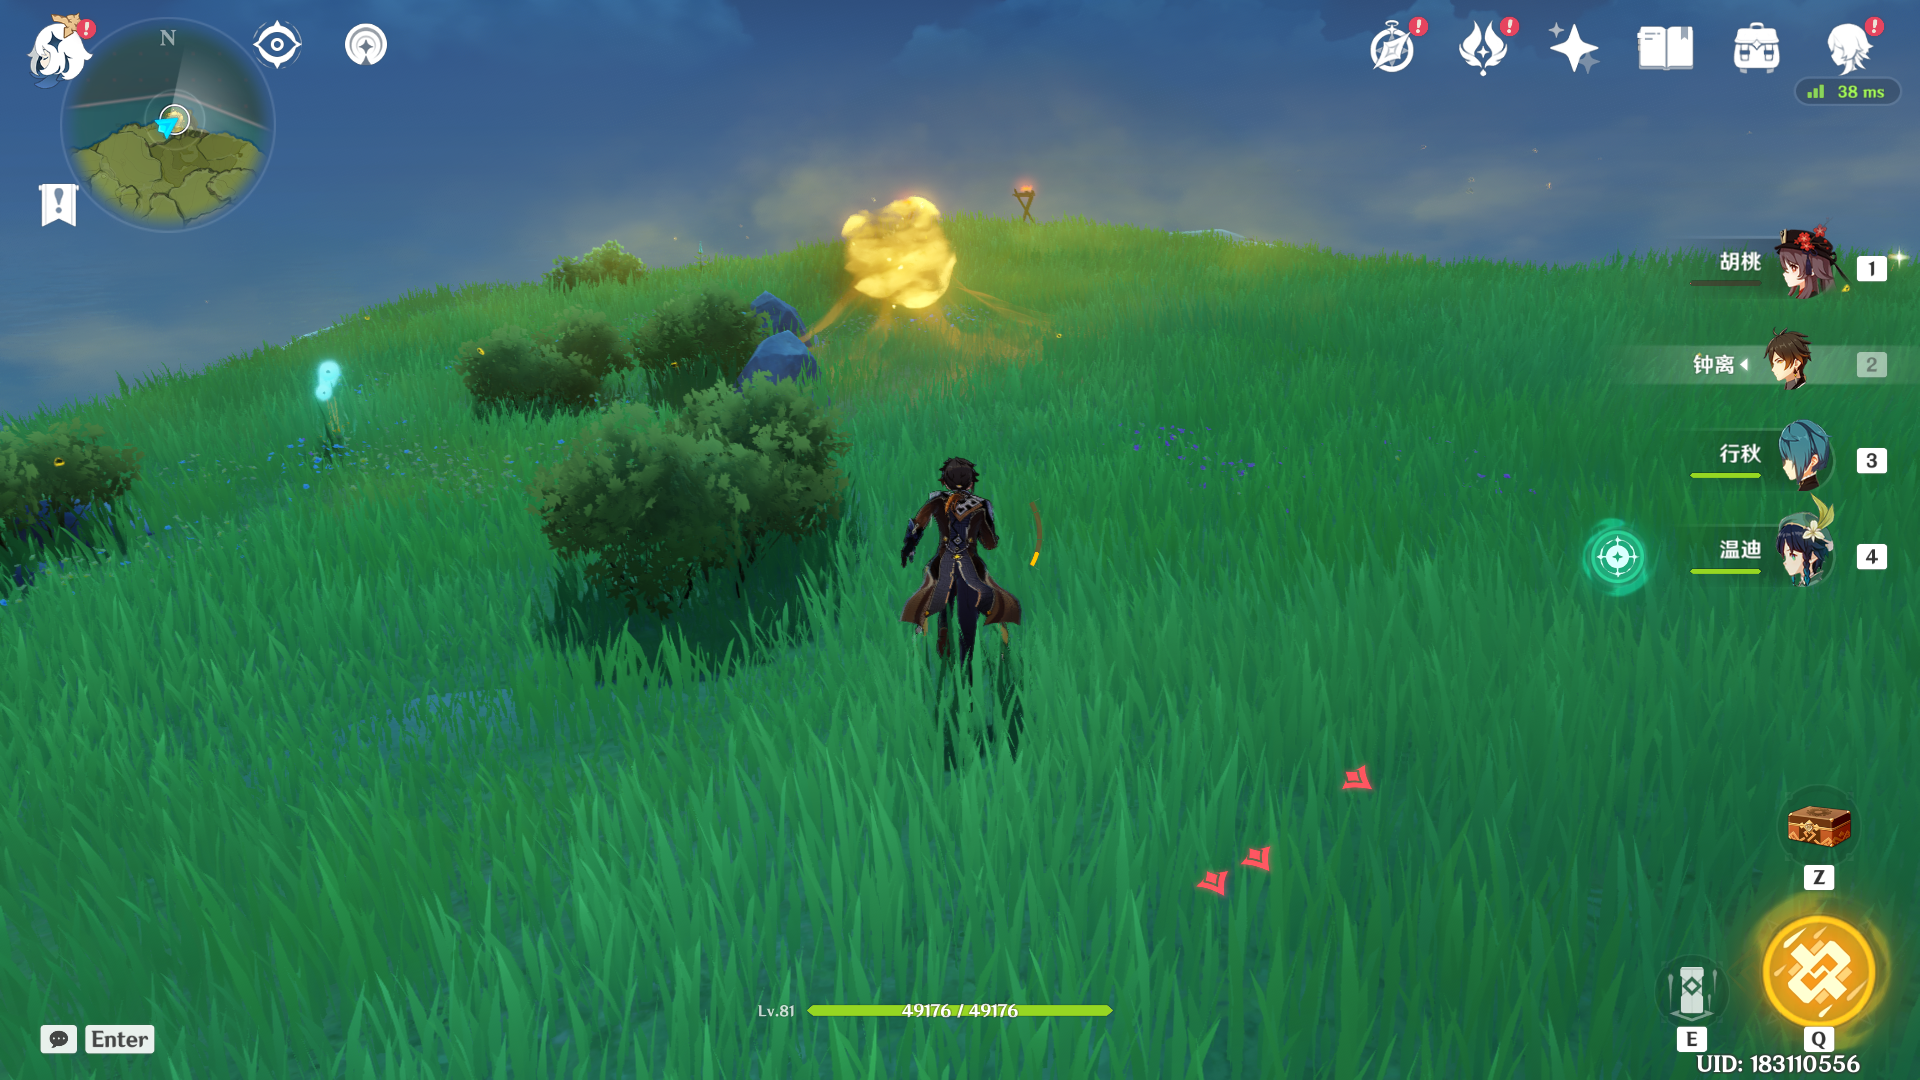character: (804, 377, 1112, 782)
